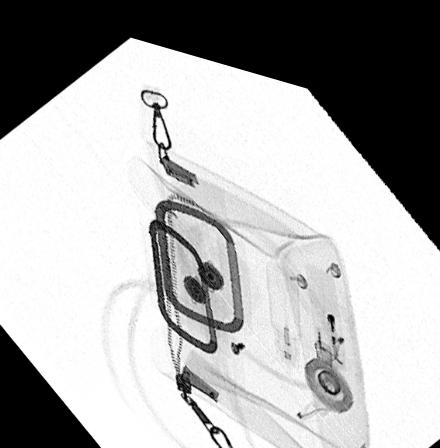Lighter: (307, 270, 344, 351)
